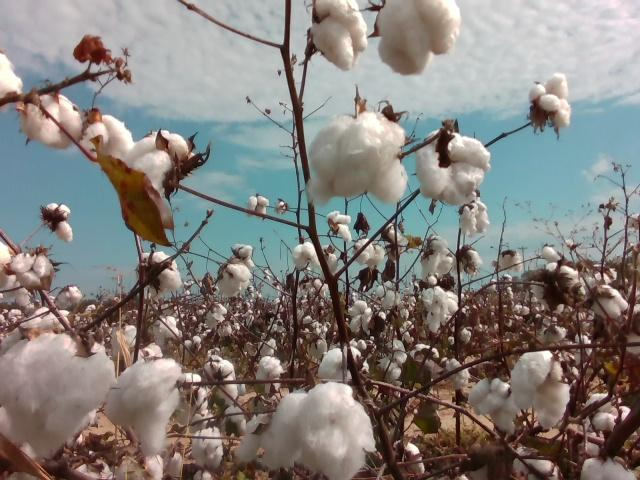cotton_ready: (0, 336, 116, 460), (264, 382, 377, 480), (307, 112, 408, 206), (104, 355, 181, 455), (379, 0, 460, 75), (417, 131, 491, 208), (511, 351, 571, 429), (126, 131, 194, 196), (313, 0, 369, 72), (20, 92, 84, 150), (80, 117, 138, 165), (466, 377, 515, 433), (527, 73, 572, 126), (317, 345, 371, 384), (137, 251, 180, 296), (515, 447, 562, 480), (13, 254, 54, 287), (592, 284, 628, 319), (581, 458, 637, 480), (218, 261, 251, 297)
